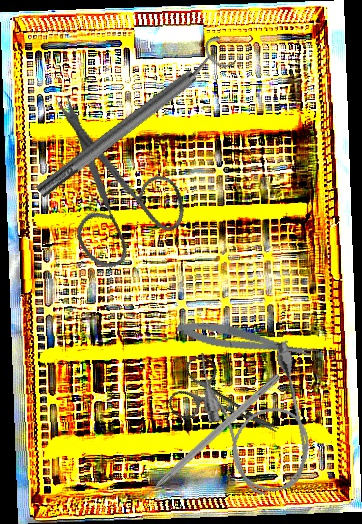Cannula: (191, 332, 323, 503)
Chopper: (127, 365, 282, 507)
Fixation Ring: (27, 33, 239, 207)
Iris Scissors: (3, 89, 210, 289), (163, 351, 293, 462)
Micro Scissor: (175, 315, 320, 368)
